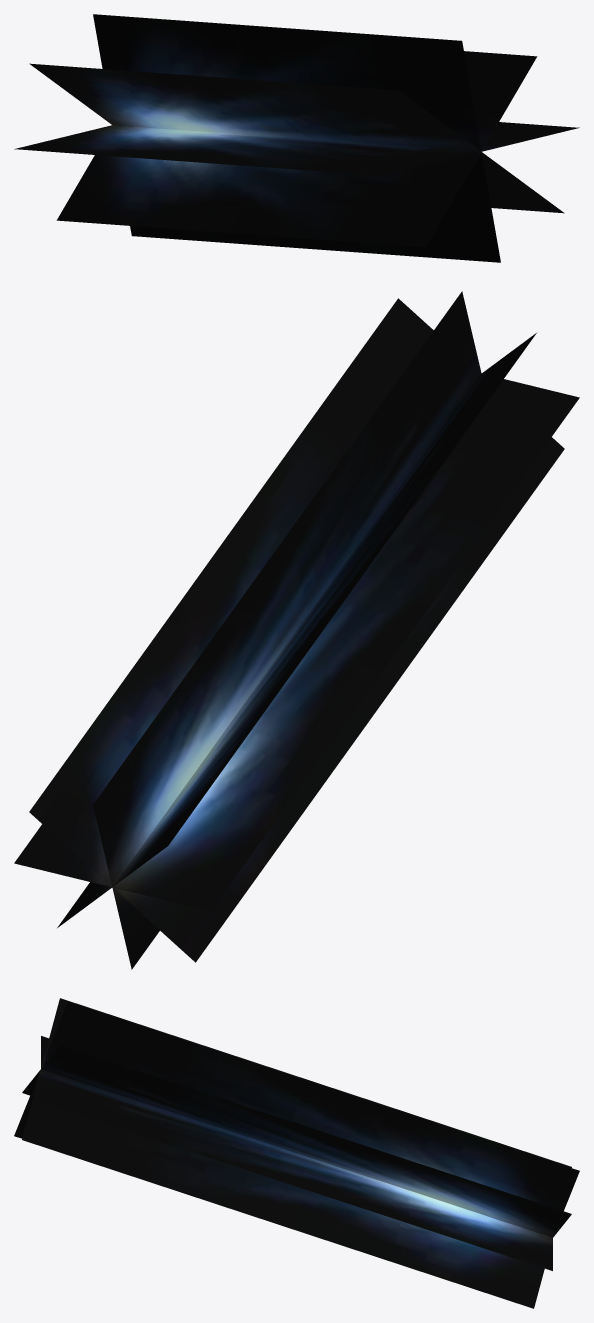
The model's file is Blast01.glb.
3 views of the same model, one above another, from view 1: azimuth 30°, elevation 25°; view 2: azimuth 150°, elevation 25°; view 3: azimuth 270°, elevation 25° (orthographic). The views are drawn at different scales.
Parts seen in each view (by area): view 1: model_Blast01; view 2: model_Blast01; view 3: model_Blast01.
Boxes of the visible parts, x1,y1,x2,y2 form: model_Blast01: [14, 14, 579, 262]; model_Blast01: [14, 291, 579, 969]; model_Blast01: [14, 998, 579, 1308].
Size of the model in its own units: 1.35 by 2.86 by 4.83.
1 material, 1 textured.
